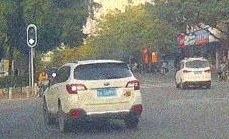L_light: (66, 83, 88, 94), (183, 69, 192, 73)
R_light: (126, 80, 141, 90), (204, 69, 211, 72)
T_light: (98, 63, 111, 65), (194, 60, 201, 61)
day-left: (64, 59, 143, 132)
day-no: (182, 58, 212, 89)
